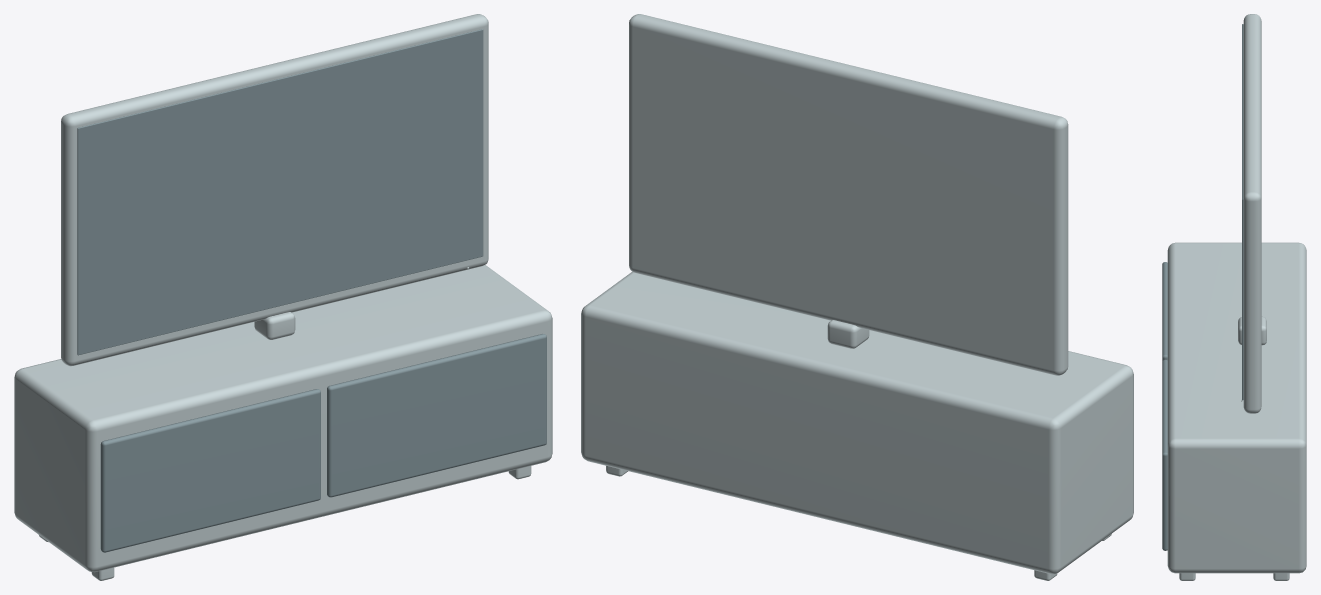
The picture shows the model from 3 angles, left to right: view 1: azimuth 30°, elevation 25°; view 2: azimuth 150°, elevation 25°; view 3: azimuth 270°, elevation 25°; orthographic projection. The views are drawn at different scales.
Parts seen in each view (by area): view 1: screen, cabinet, cabinet_front_-0.32, cabinet_front_0.32, screen_housing, stand; view 2: screen_housing, cabinet, stand; view 3: cabinet, screen_housing, cabinet_front_0.32, screen, cabinet_front_-0.32, stand.
Boxes of the visible parts, left/top/right/bottom form: screen: left=77, top=29, right=483, bottom=355; cabinet: left=14, top=265, right=552, bottom=572; cabinet_front_-0.32: left=100, top=389, right=320, bottom=552; cabinet_front_0.32: left=327, top=334, right=546, bottom=497; screen_housing: left=61, top=14, right=488, bottom=366; stand: left=254, top=312, right=295, bottom=339; screen_housing: left=629, top=14, right=1068, bottom=375; cabinet: left=581, top=271, right=1133, bottom=574; stand: left=827, top=320, right=869, bottom=348; cabinet: left=1167, top=242, right=1306, bottom=573; screen_housing: left=1243, top=14, right=1261, bottom=413; cabinet_front_0.32: left=1162, top=359, right=1167, bottom=550; screen: left=1242, top=24, right=1243, bottom=400; cabinet_front_-0.32: left=1162, top=262, right=1167, bottom=361; stand: left=1238, top=316, right=1266, bottom=345.
Size of the model in its own units: 1.32 by 1.17 by 0.4.
